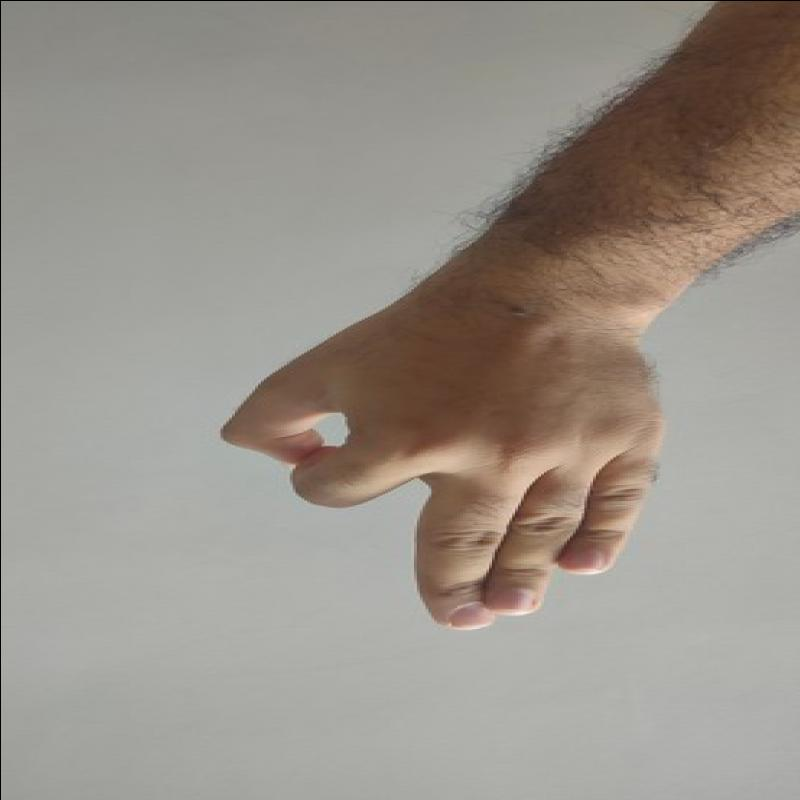Mudraakhyam: (211, 278, 681, 644)
